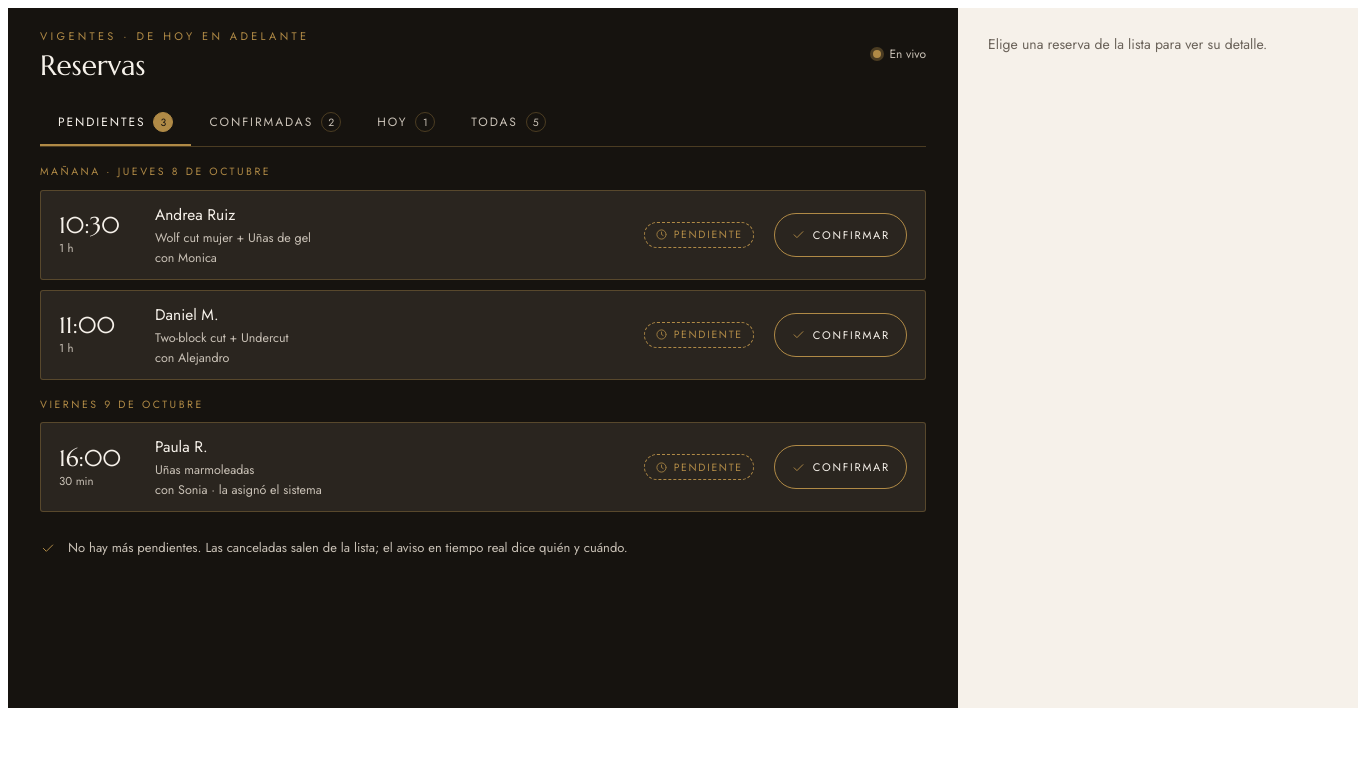
Test: la bandeja · acciones (A2–A3) › elegir una fila abre su detalle en el panel
Expected: the text "Elige una reserva de la lista para ver su detalle." is shown, [988,34,1267,54]
Click the button with test id "abrir-reserva" that starts with "1 h": x=89, y=225 [59,191,624,279]
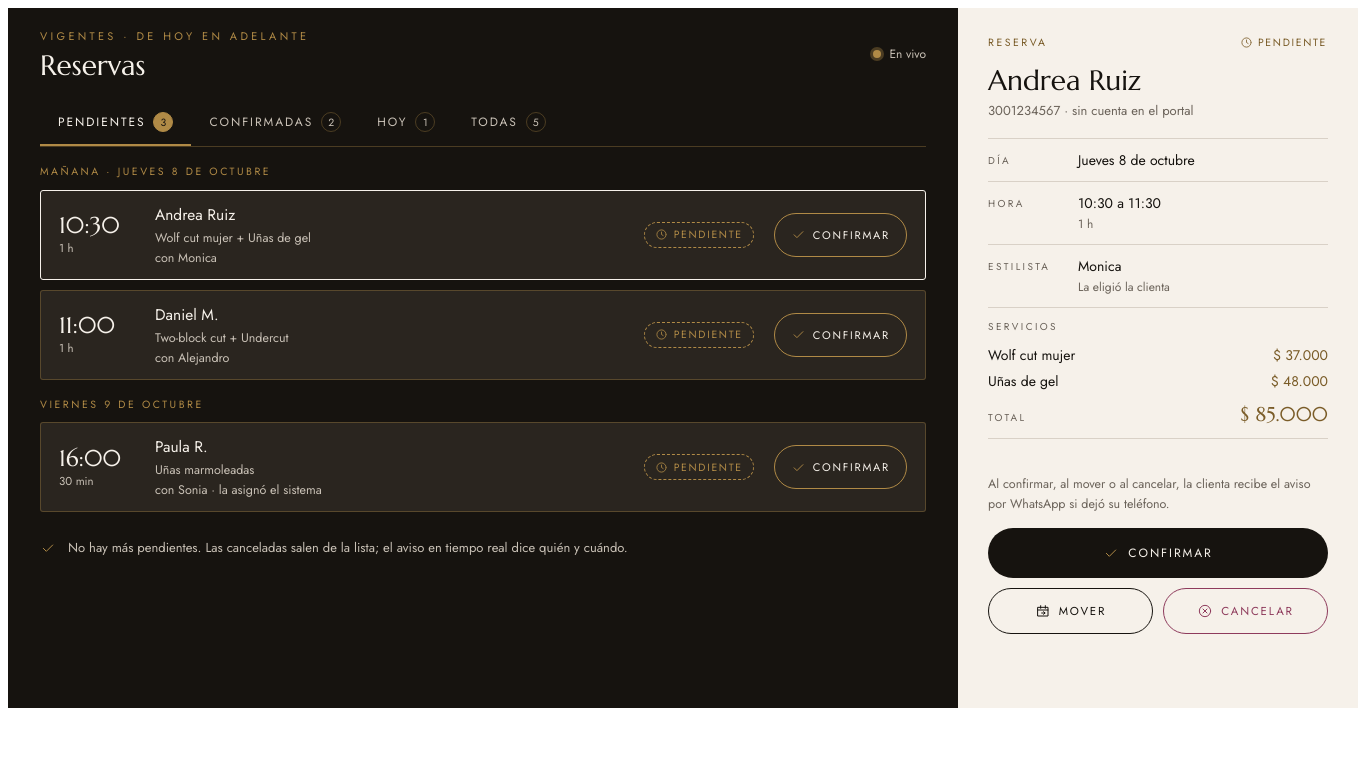
Expected: the heading with test id "detalle-nombre" reads "Andrea Ruiz", [988,63,1141,98]
